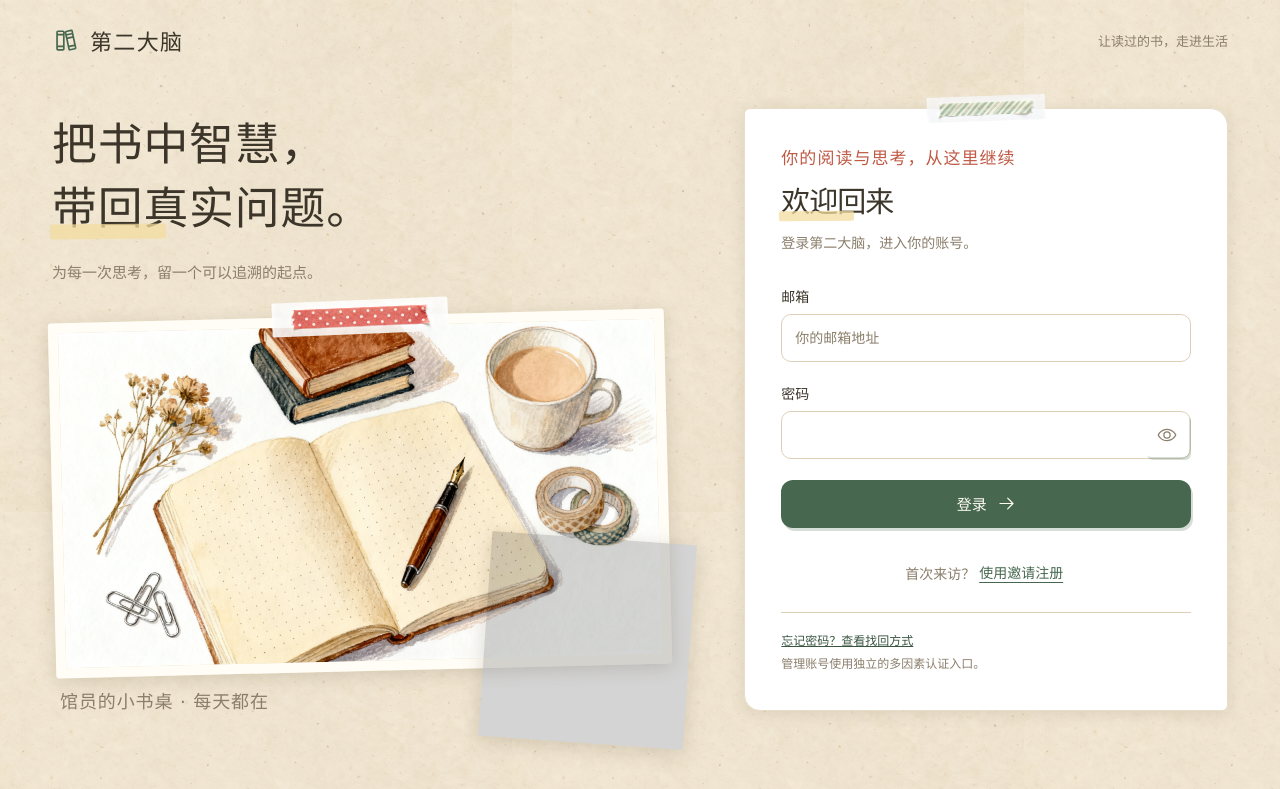
it: 登录与公开页面 › 失败清除密码、保留邮箱，只显示固定错误与安全请求号
The width and height of the screenshot is (1280, 789).
In the field labelled "邮箱": coordinates (986, 338) [781,314,1191,362], type "reader@example.test"
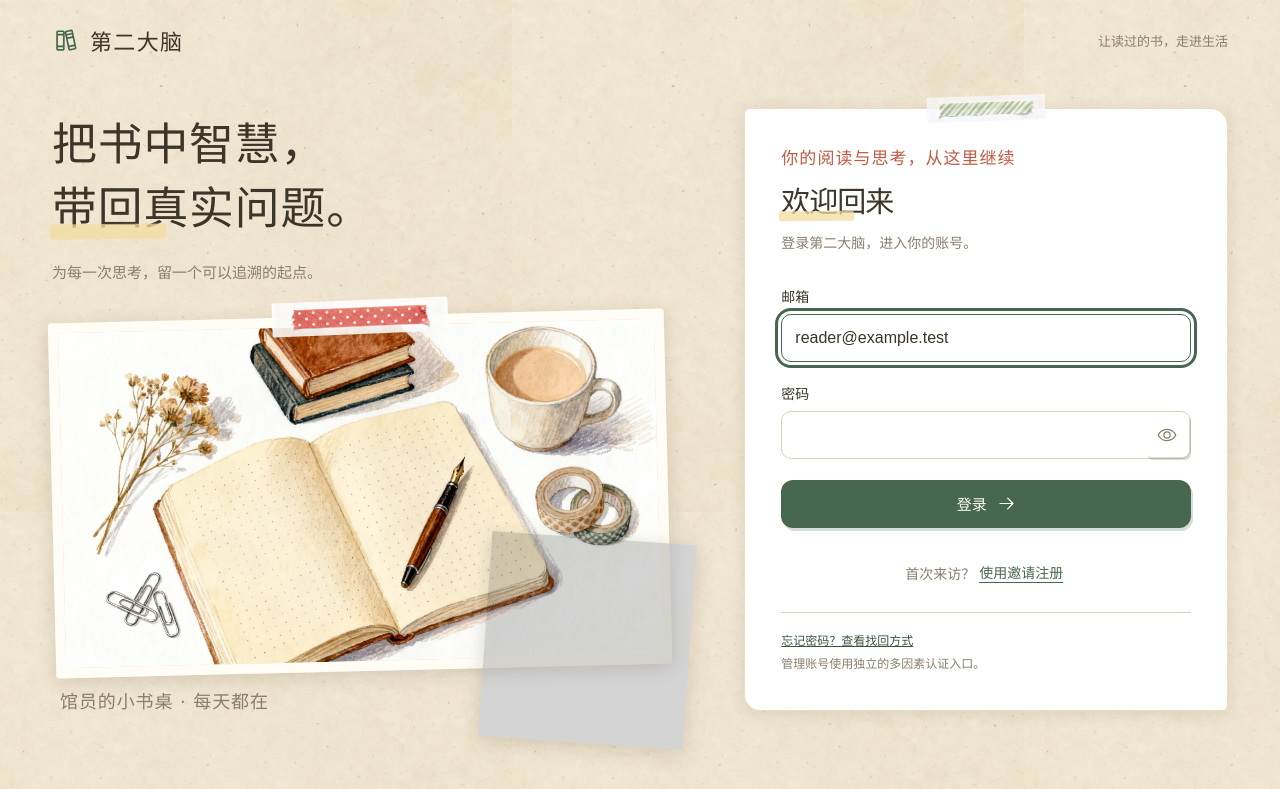
In the password field labelled "密码": coordinates (986, 435) [781,411,1191,459], type "  Forest-River-482!  "
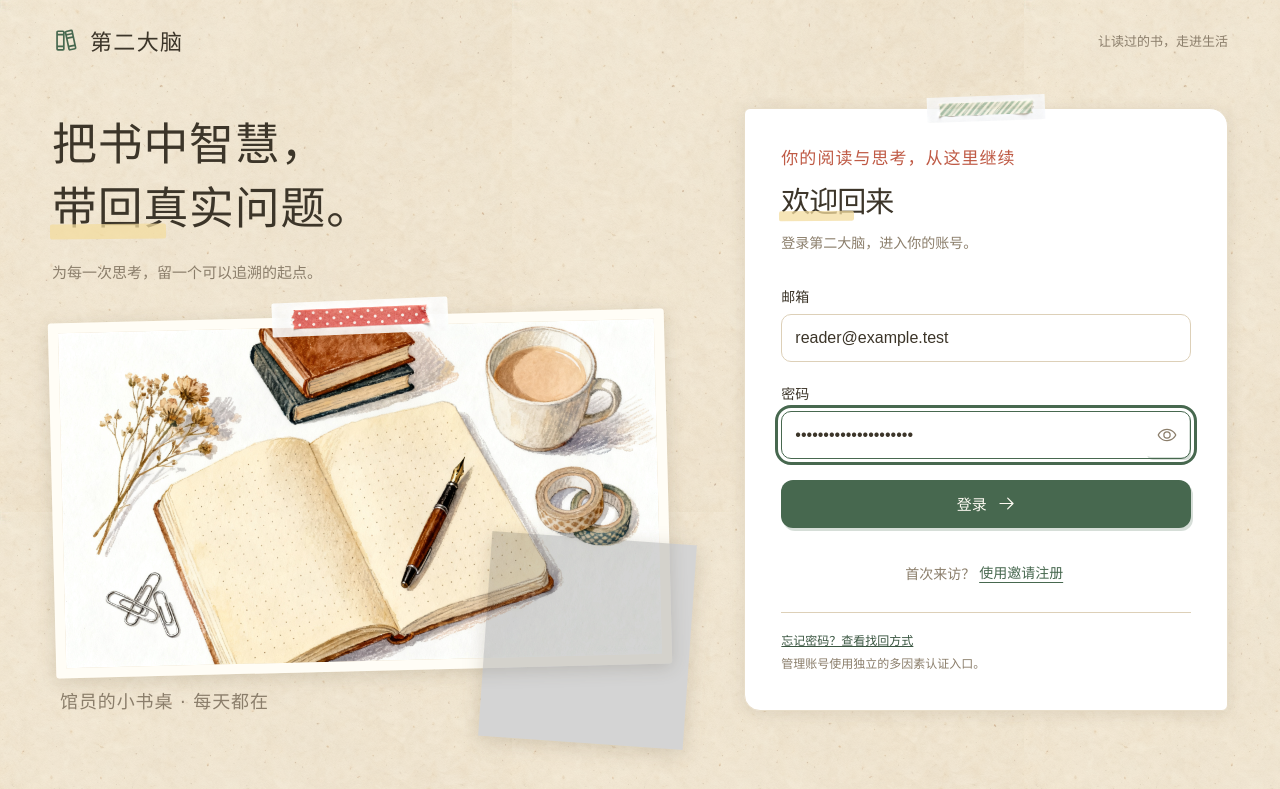
Click the button named "显示密码": coordinates (1167, 435) [1145,413,1189,457]
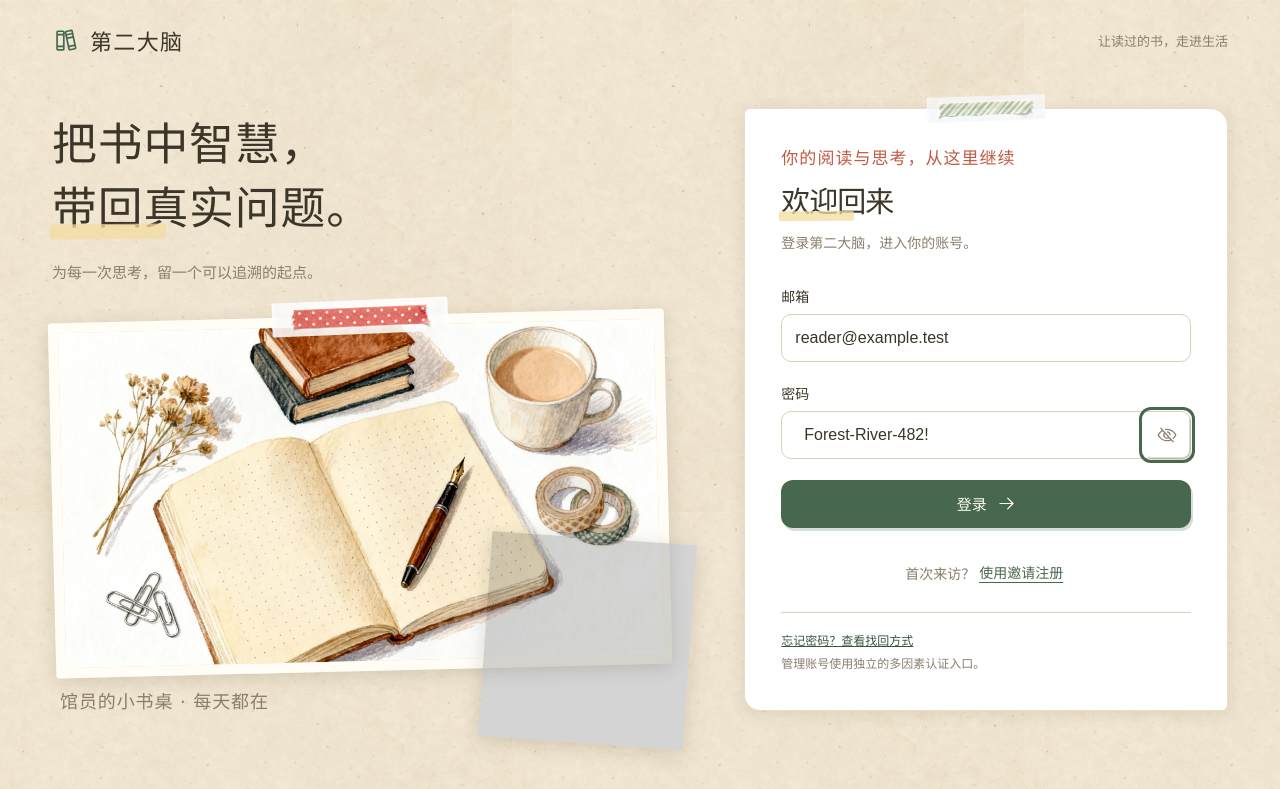
Click the button "登录": coordinates (986, 504) [781,480,1191,528]
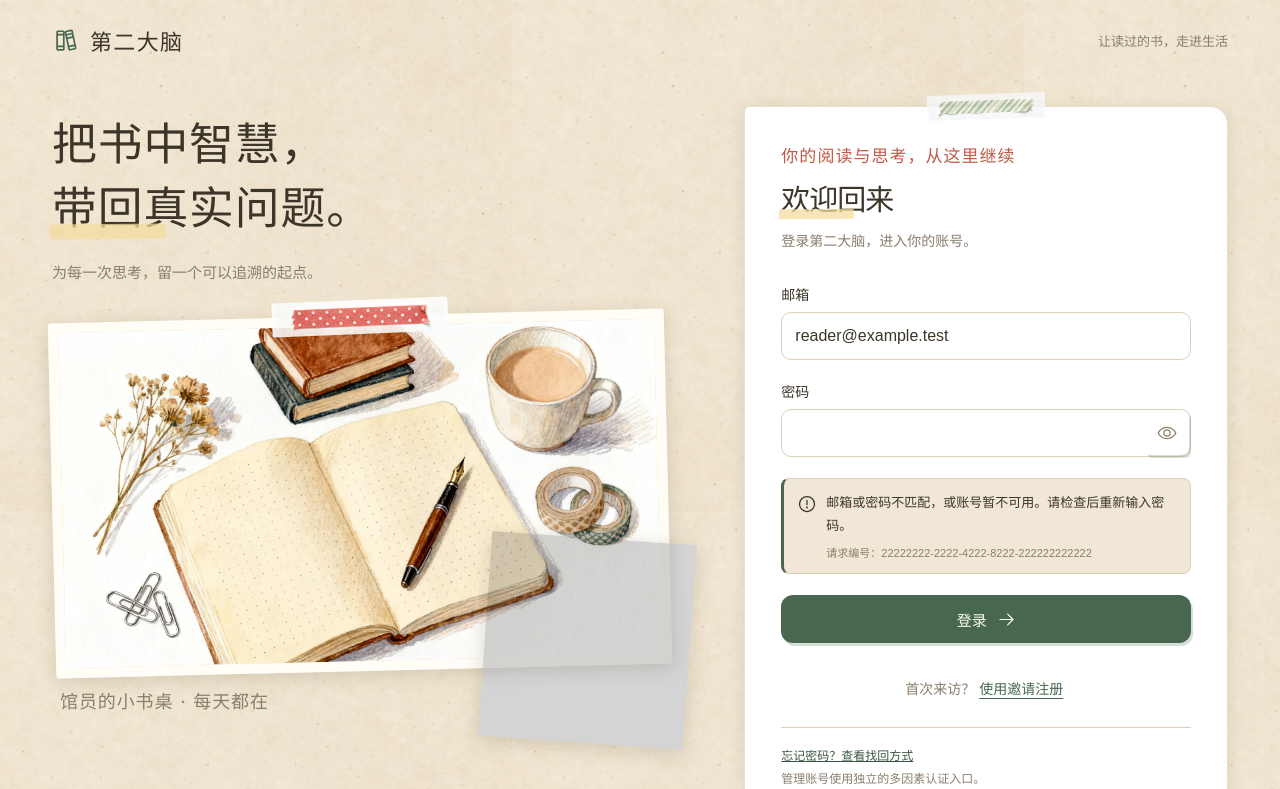
Expected: the message "邮箱或密码不匹配，或账号暂不可用。请检查后重新输入密码。 请求编号：22222222-2222-4222-8222-222222222222" is shown, [781,478,1191,574]
Expected: the password field labelled "密码" is empty, [781,409,1191,457]
Expected: the text "请求编号：22222222-2222-4222-8222-222222222222" is shown, [826,547,1092,559]
